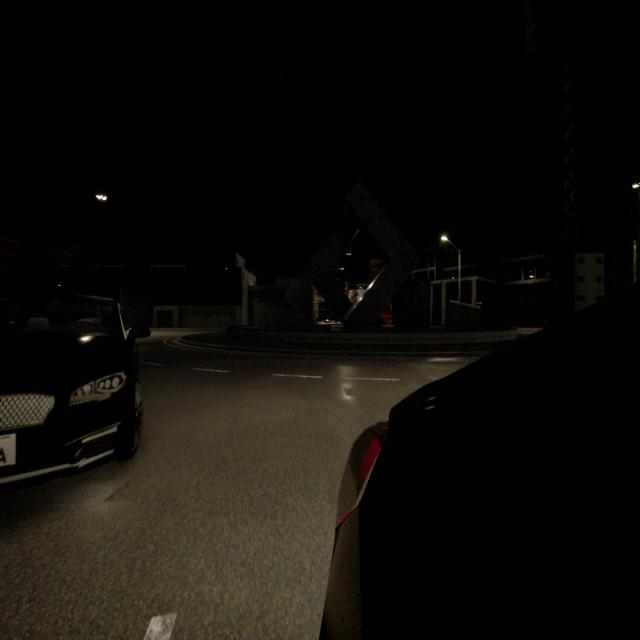Vehicle: (324, 295, 640, 640), (0, 298, 141, 482)
